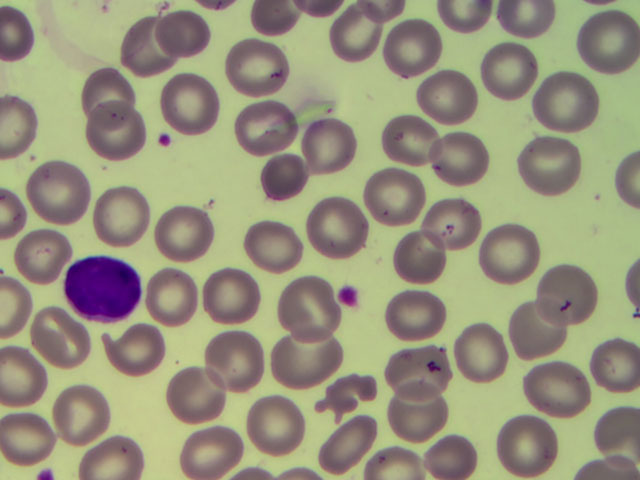Platelets: (339, 283, 360, 308), (35, 466, 55, 478), (158, 133, 169, 144)
RBC: (278, 276, 343, 343), (523, 355, 590, 420), (159, 71, 222, 140), (530, 72, 599, 135), (24, 159, 90, 224), (575, 9, 640, 75), (29, 305, 93, 369), (496, 414, 560, 478), (205, 330, 269, 393), (84, 97, 147, 160), (224, 37, 290, 97), (272, 333, 345, 387), (478, 220, 539, 284), (307, 195, 368, 259), (115, 11, 175, 76), (233, 95, 299, 154), (244, 393, 306, 455), (518, 138, 582, 197), (51, 384, 112, 445), (90, 183, 150, 244), (429, 130, 491, 189), (363, 167, 426, 225), (180, 424, 245, 480), (538, 263, 596, 324), (383, 344, 451, 396), (102, 320, 166, 375), (383, 285, 448, 339), (454, 320, 508, 384), (418, 68, 478, 123), (168, 364, 221, 425), (386, 388, 448, 440), (422, 428, 484, 480), (157, 209, 213, 265), (204, 267, 260, 323), (13, 228, 69, 284), (245, 216, 301, 272), (301, 118, 357, 174), (331, 9, 387, 65), (480, 43, 536, 99), (425, 196, 481, 252), (383, 110, 439, 166), (385, 20, 441, 76), (510, 301, 566, 357), (320, 368, 376, 424), (80, 432, 145, 480), (1, 411, 56, 467), (144, 268, 198, 325), (1, 345, 50, 407), (316, 420, 374, 471), (587, 407, 640, 460), (391, 232, 446, 283), (80, 68, 138, 116), (156, 7, 209, 56), (591, 337, 640, 390), (1, 94, 36, 158), (495, 1, 554, 37), (261, 152, 305, 200), (1, 275, 35, 337), (1, 6, 37, 63), (243, 1, 301, 34), (370, 447, 426, 480), (436, 1, 493, 33), (612, 147, 640, 211), (358, 1, 416, 22), (1, 191, 26, 236), (621, 259, 640, 315), (296, 1, 350, 18), (200, 1, 237, 14)
WBC: (68, 258, 143, 321)
